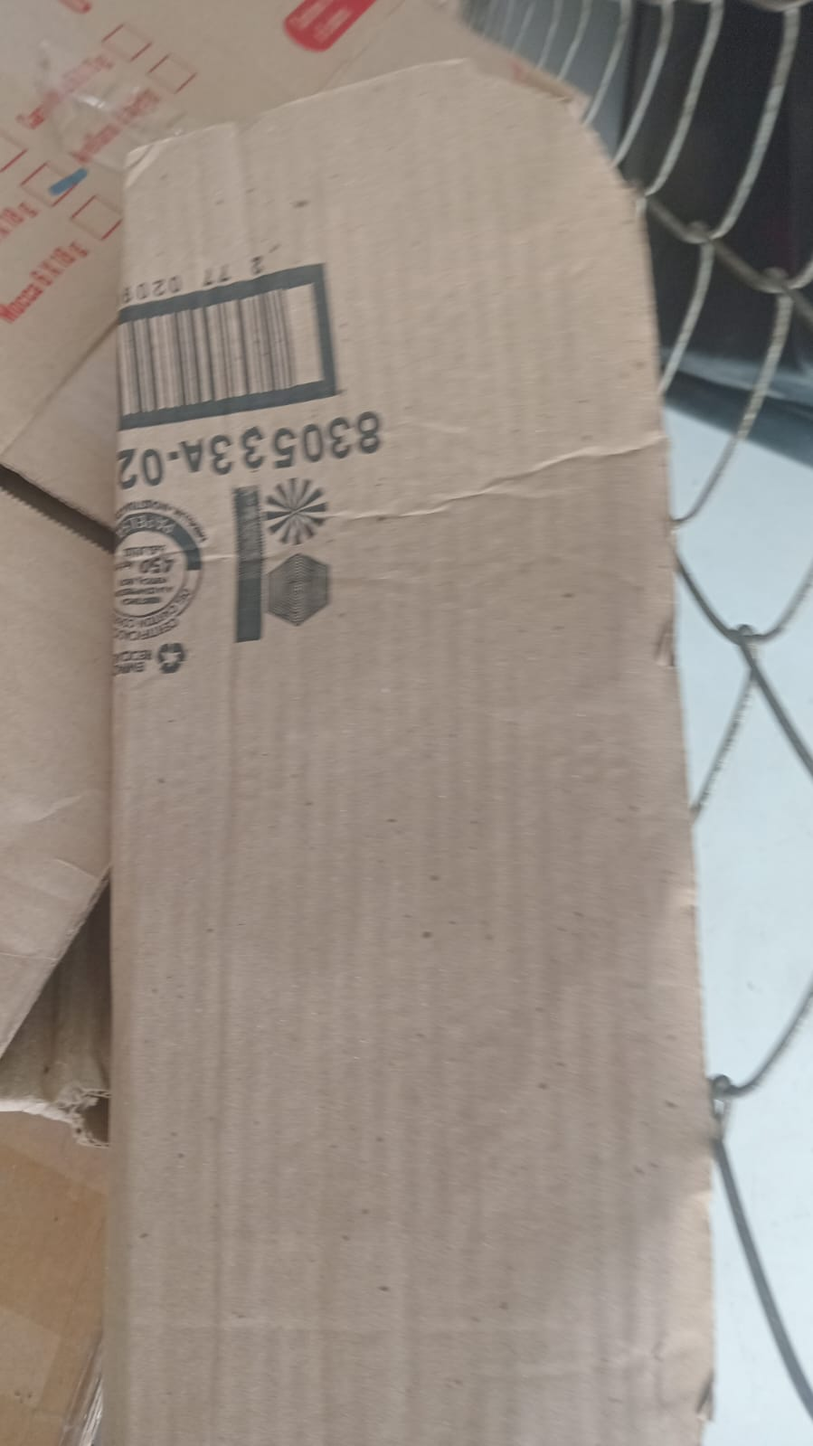Carton: (117, 54, 706, 1446)
